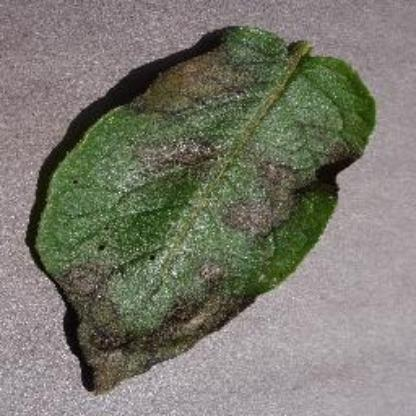Late-Blight: (26, 26, 380, 390)
